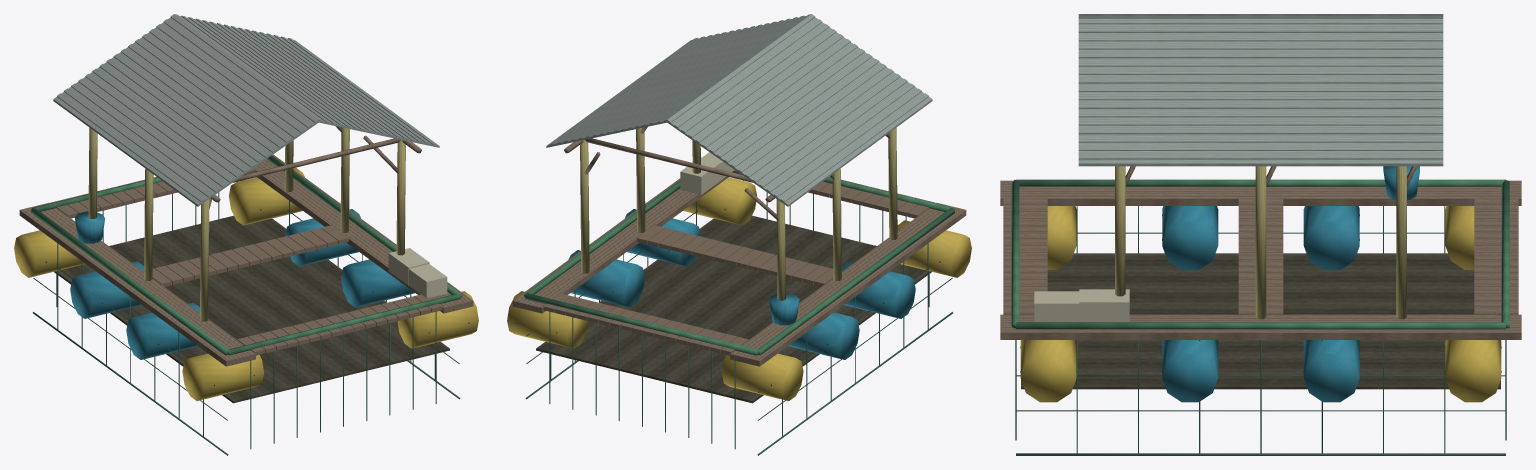
The model's file is bung-binh-thien-life.glb.
3 renders of one model, left to right at view 1: azimuth 30°, elevation 25°; view 2: azimuth 150°, elevation 25°; view 3: azimuth 270°, elevation 25°, orthographic. The views are drawn at different scales.
Visible parts, largest first — view 1: bung-raft-0-grey; view 2: bung-raft-0-grey; view 3: bung-raft-0-grey.
Boxes of the visible parts, x1,y1,x2,y2 form: bung-raft-0-grey: (14,14,478,455); bung-raft-0-grey: (507,14,971,455); bung-raft-0-grey: (1000,14,1521,455).
Size of the model in its own units: 4.14 by 4.18 by 5.4.
Materials: 1 (1 with a texture image).
